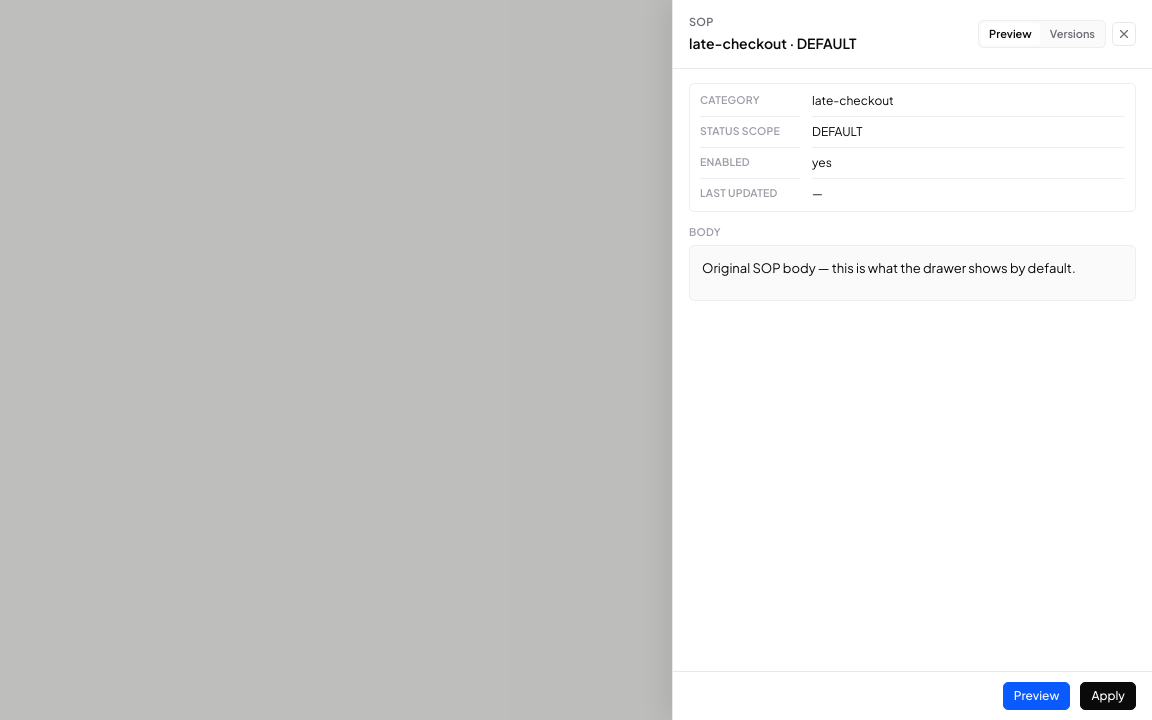
Test: ArtifactDrawer — D3 Preview/Apply › Validation error preview keeps Apply disabled + renders inline error
Click the button with aria-label "Preview change" at (1037, 696), box [1003,682,1070,710]
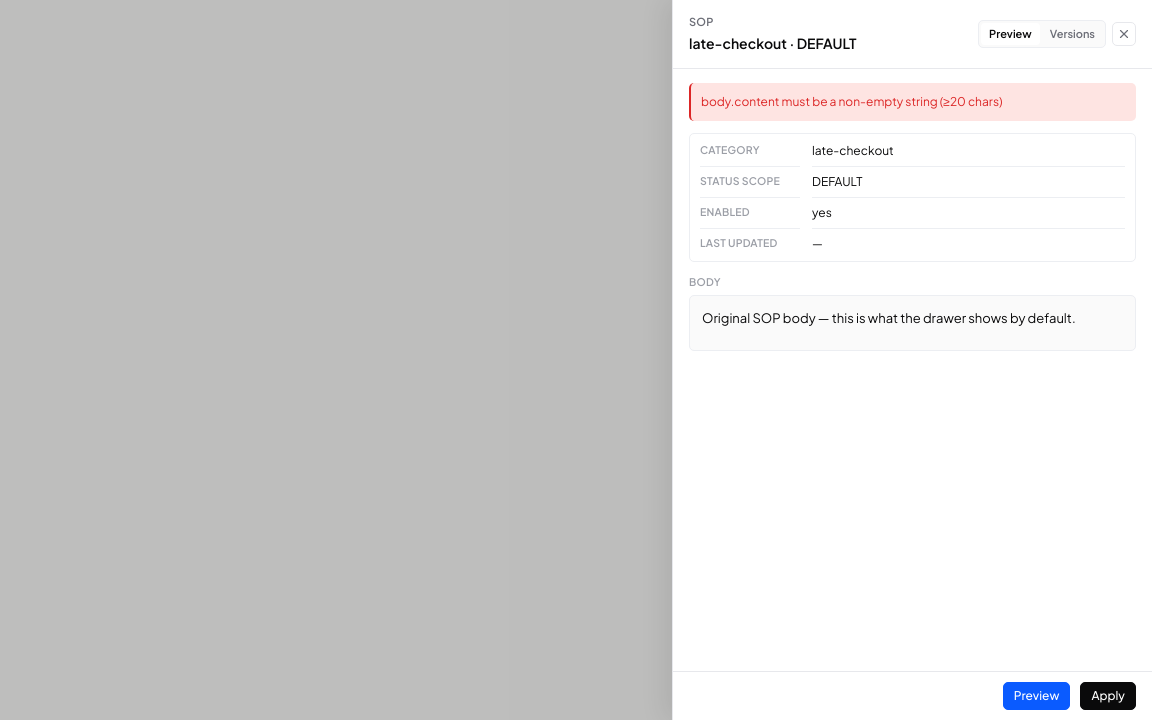
expect the button with aria-label "Apply change" is disabled: met, box [1080,682,1136,710]
expect the message "body.content must be a non-empty string (≥20 chars)" is shown: met, box [689,82,1136,120]
